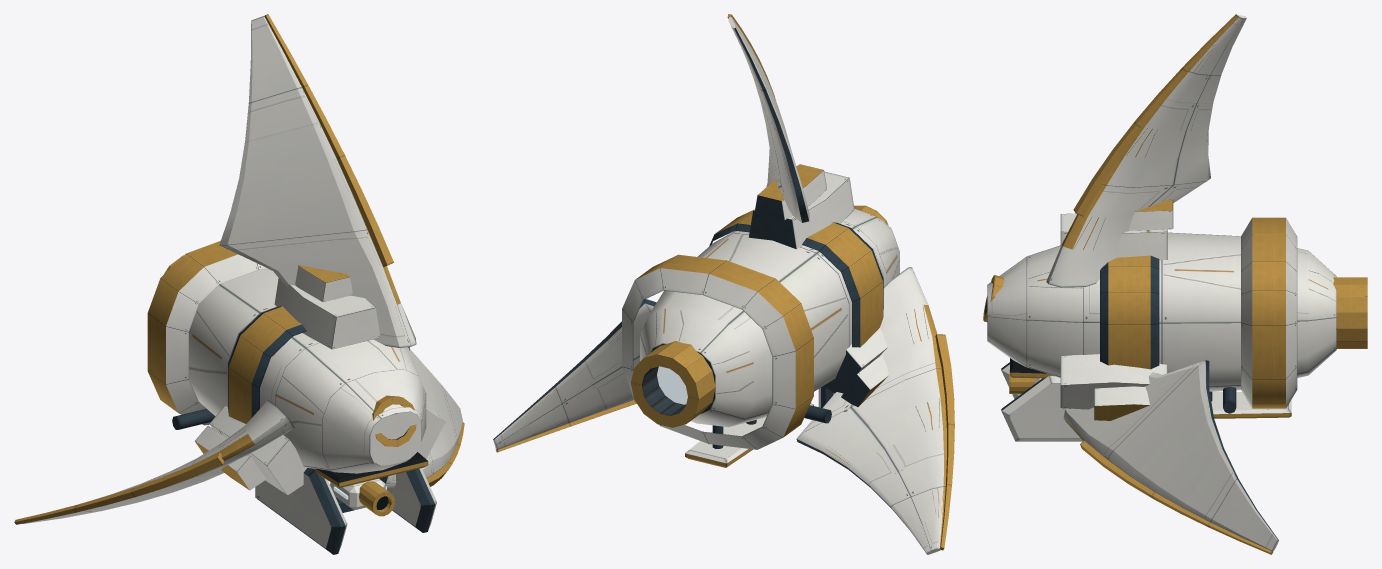
The model's file is juno-europa-l05-laser.glb.
3 renders of one model, left to right at view 1: azimuth 30°, elevation 25°; view 2: azimuth 150°, elevation 25°; view 3: azimuth 270°, elevation 25°, orthographic. The views are drawn at different scales.
Visible parts, largest first — view 1: Drone; view 2: Drone; view 3: Drone.
Part boxes in pixels (bbox=[...]): Drone: bbox=[14, 14, 464, 554]; Drone: bbox=[493, 14, 954, 554]; Drone: bbox=[983, 14, 1367, 554].
Size of the model in its own units: 2.44 by 2.47 by 1.94.
Materials: 3 (3 with a texture image).
